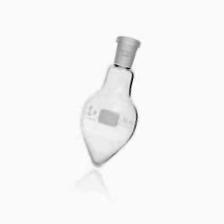Pear shaped flask: (72, 28, 148, 170)
